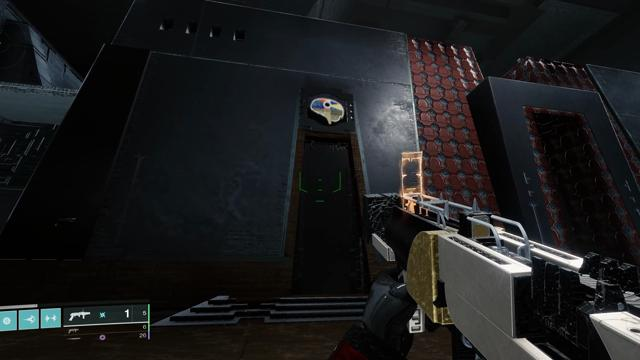brain: (308, 93, 349, 127)
